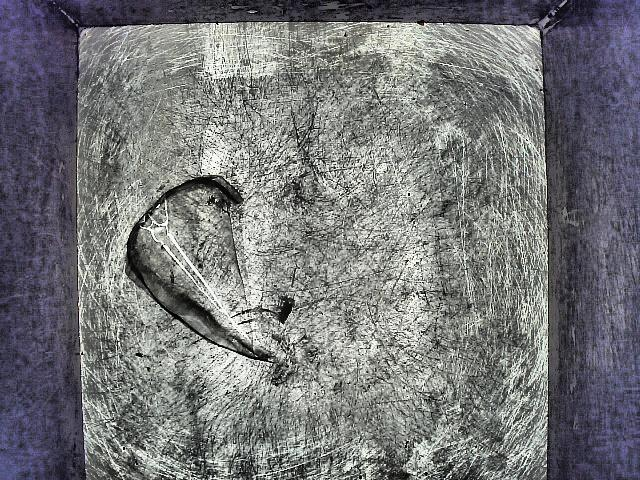Plastic: (114, 161, 310, 410)
